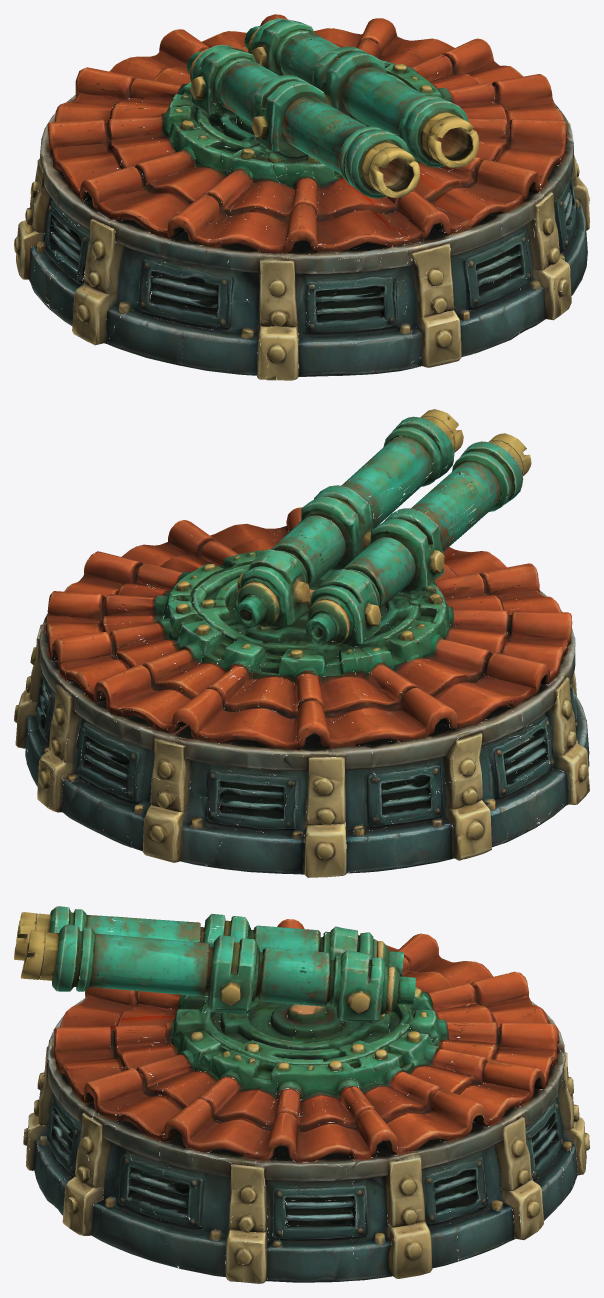
The model's file is warrior-1-stylized.glb.
3 views of the same model, one above another, from view 1: azimuth 30°, elevation 25°; view 2: azimuth 150°, elevation 25°; view 3: azimuth 270°, elevation 25° (orthographic). The views are drawn at different scales.
Parts seen in each view (by area): view 1: fixed-copper-platform, twin-cannons, rotating-bearing; view 2: fixed-copper-platform, twin-cannons, rotating-bearing; view 3: fixed-copper-platform, twin-cannons, rotating-bearing.
Boxes of the visible parts, x1,y1,x2,y2 form: fixed-copper-platform: (14, 14, 589, 380); twin-cannons: (187, 18, 479, 198); rotating-bearing: (169, 57, 441, 180); fixed-copper-platform: (14, 507, 589, 877); twin-cannons: (235, 409, 531, 644); rotating-bearing: (168, 548, 449, 672); fixed-copper-platform: (23, 919, 589, 1283); twin-cannons: (14, 906, 415, 1019); rotating-bearing: (166, 975, 438, 1080).
Size of the model in its own units: 0.8197 by 0.387 by 0.8288.
Materials: 1 (1 with a texture image).
